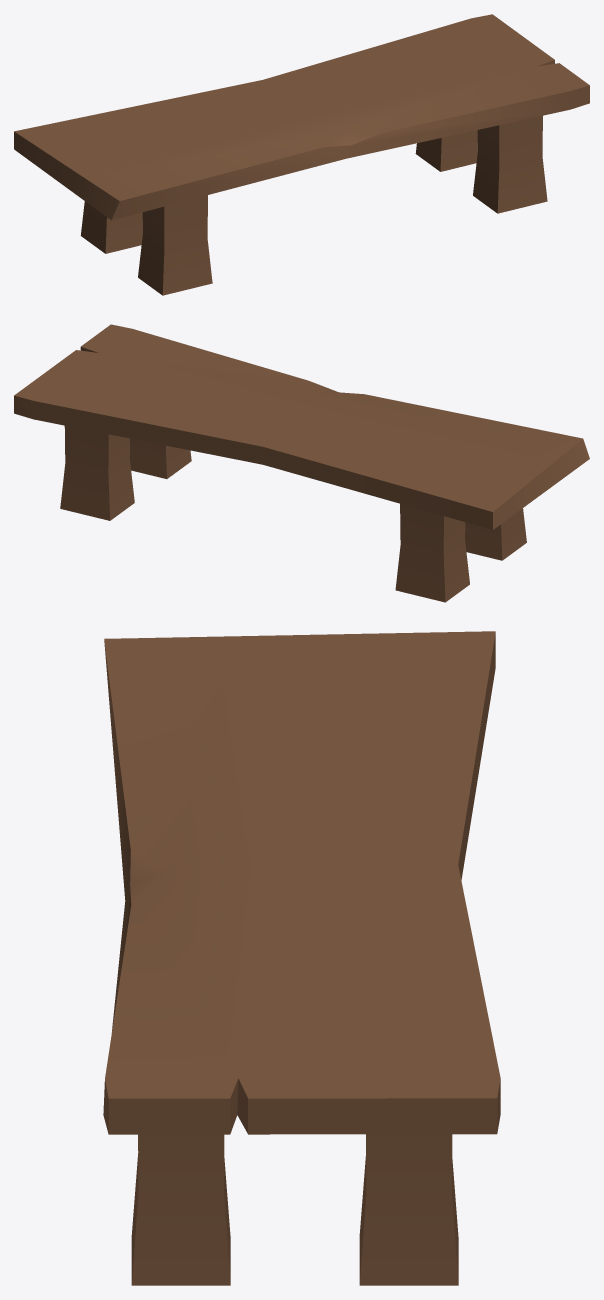
Rendered from BenchChair_1.fbx.
The picture shows the model from 3 angles, top to bottom: view 1: azimuth 30°, elevation 25°; view 2: azimuth 150°, elevation 25°; view 3: azimuth 270°, elevation 25°; orthographic projection. The views are drawn at different scales.
Parts seen in each view (by area): view 1: BenchChair_1; view 2: BenchChair_1; view 3: BenchChair_1.
Boxes of the visible parts, bbox=[...] form: BenchChair_1: bbox=[14, 14, 589, 295]; BenchChair_1: bbox=[14, 324, 589, 602]; BenchChair_1: bbox=[103, 631, 500, 1285].
Bounding box in the file's own units: 159 × 35.52 × 57.22.
